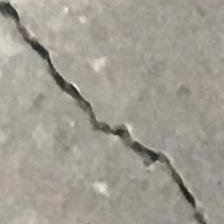Crack: (1, 2, 224, 224)
